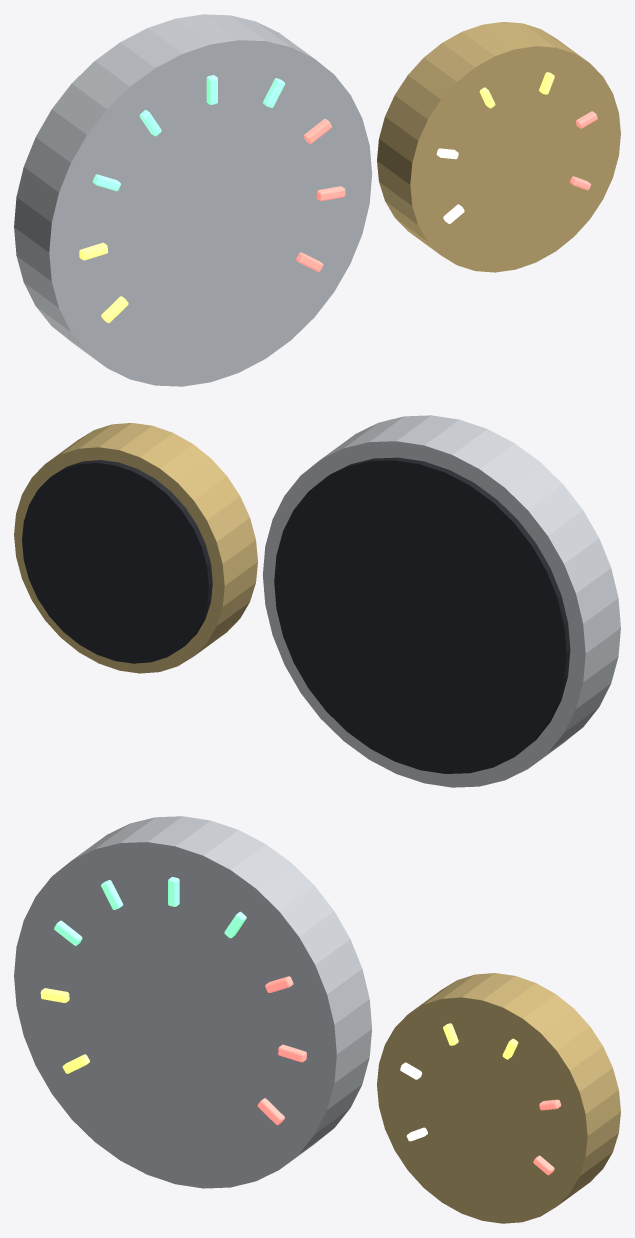
File: tachometer_unit.glb
3 renders of one model, top to bottom at view 1: azimuth 30°, elevation 25°; view 2: azimuth 150°, elevation 25°; view 3: azimuth 330°, elevation 25°, orthographic.
Parts seen in each view (by area): view 1: MainBezel, HeatBezel; view 2: MainDial, MainBezel, HeatDial, HeatBezel; view 3: MainBezel, HeatBezel.
Boxes of the visible parts, x1,y1,x2,y2 form: MainBezel: (14,14,371,386); HeatBezel: (377,22,620,272); MainDial: (274,457,570,773); MainBezel: (263,415,620,787); HeatDial: (22,460,212,663); HeatBezel: (14,423,257,673); MainBezel: (14,816,371,1188); HeatBezel: (377,973,620,1223).
Size of the model in its own units: 0.337 by 0.19 by 0.044.
